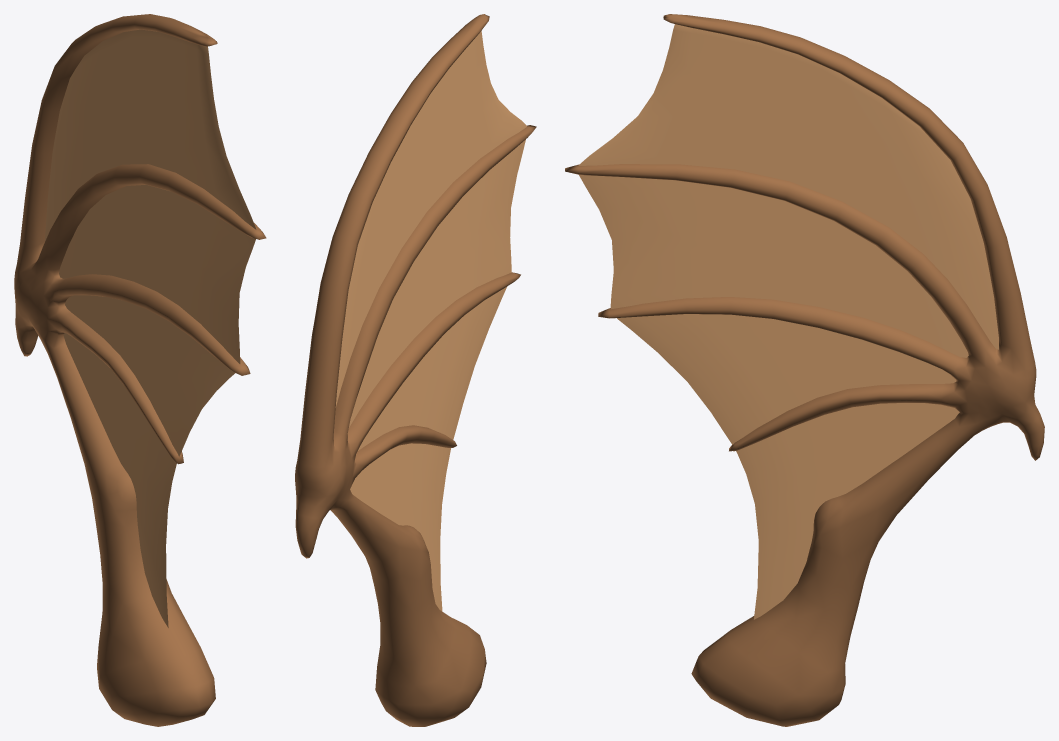
File: Wicked Wings.fbx
The picture shows the model from 3 angles, left to right: view 1: azimuth 30°, elevation 25°; view 2: azimuth 150°, elevation 25°; view 3: azimuth 270°, elevation 25°; orthographic projection. The views are drawn at different scales.
Visible parts, largest first — view 1: Wicked Wings - gigas18 (Dregni); view 2: Wicked Wings - gigas18 (Dregni); view 3: Wicked Wings - gigas18 (Dregni).
Part boxes in pixels (x1=…): Wicked Wings - gigas18 (Dregni): x1=14, y1=14, x2=266, y2=726; Wicked Wings - gigas18 (Dregni): x1=295, y1=14, x2=536, y2=726; Wicked Wings - gigas18 (Dregni): x1=565, y1=14, x2=1044, y2=726.
Size of the model in its own units: 35.29 by 271 by 167.
